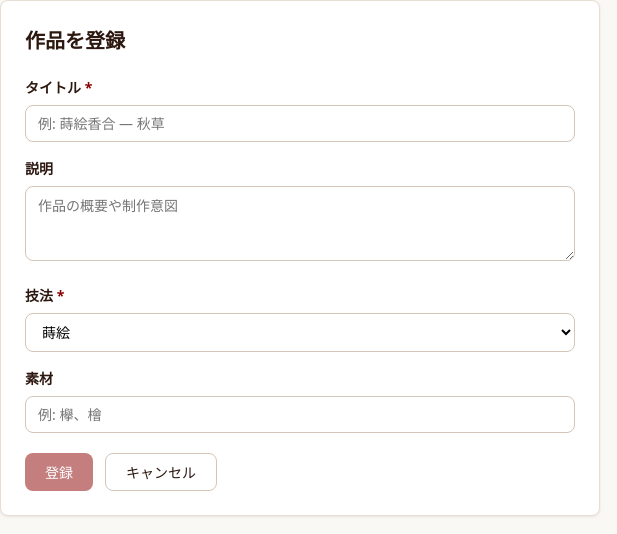
WorkForm › enables submit when title is filled
Type "テスト作品" into the field labelled "タイトル *".
click(300, 124); type("テスト作品")  # box [25,105,575,142]
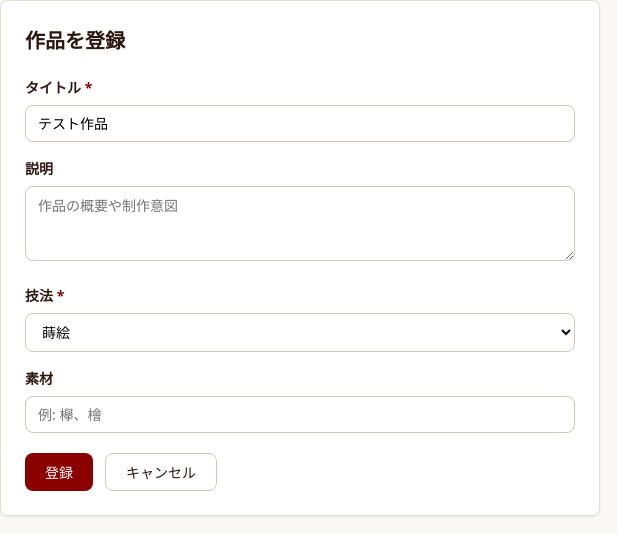
Expected: the button with test id "submit-button" is enabled, [25,452,93,490]
